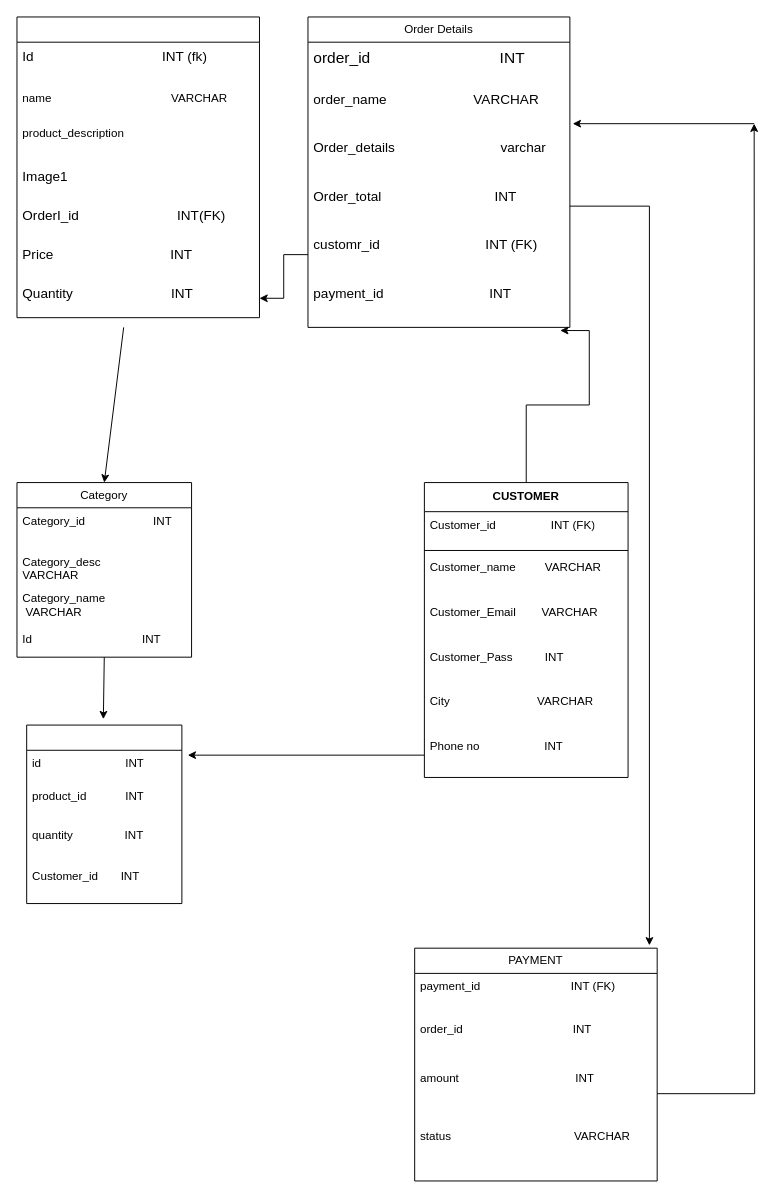
The diagram is 780 pixels wide and 1201 high, and some of its shapes have lost their labels. Each missing label, with the box of its shape:
cart_item: (26, 724, 182, 904)
product_category: (16, 16, 259, 318)
